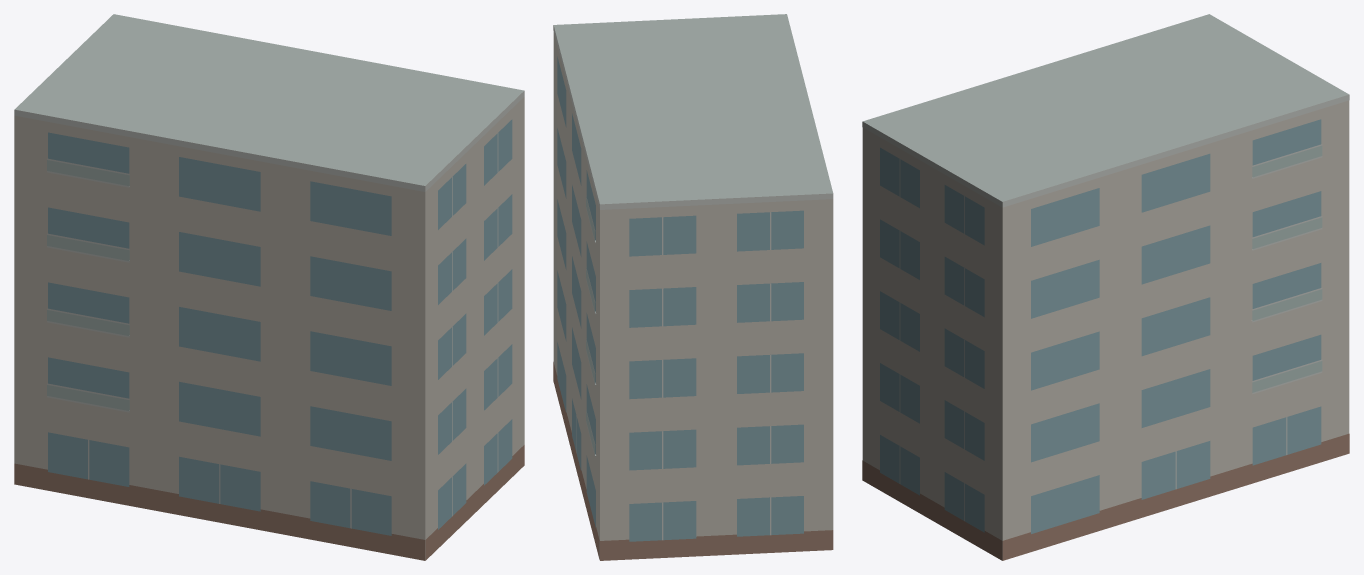
Rendered from survey-upis-32928560.glb.
3 renders of one model, left to right at view 1: azimuth 30°, elevation 25°; view 2: azimuth 150°, elevation 25°; view 3: azimuth 270°, elevation 25°, orthographic. The views are drawn at different scales.
Visible parts, largest first — view 1: survey-upis-32928560.tmp; view 2: survey-upis-32928560.tmp; view 3: survey-upis-32928560.tmp.
Part boxes in pixels (x1,y1,x2,y2): survey-upis-32928560.tmp: [14, 14, 524, 560]; survey-upis-32928560.tmp: [553, 14, 833, 560]; survey-upis-32928560.tmp: [862, 14, 1349, 560].
Size of the model in its own units: 17.18 by 15.3 by 18.82.
